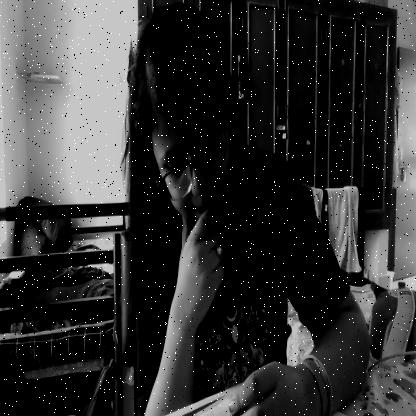Distracted: (125, 0, 249, 241)
